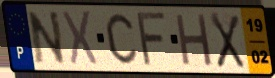C: (104, 12, 139, 66)
F: (136, 11, 169, 68)
H: (174, 12, 215, 68)
N: (26, 9, 68, 66)
X: (60, 9, 99, 68), (208, 11, 246, 71)
